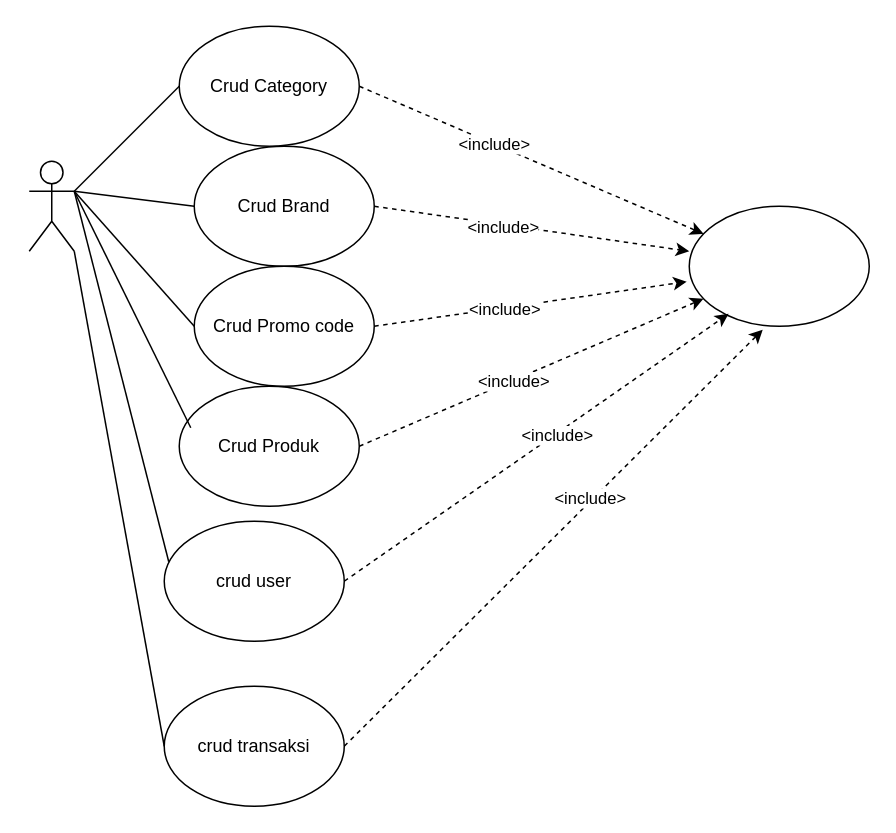
This 896x833 diagram has some shape labels left out. Each missing label, with the centre of its shape:
"Admin" goes at pixel 51 205.
"Login" goes at pixel 778 265.
